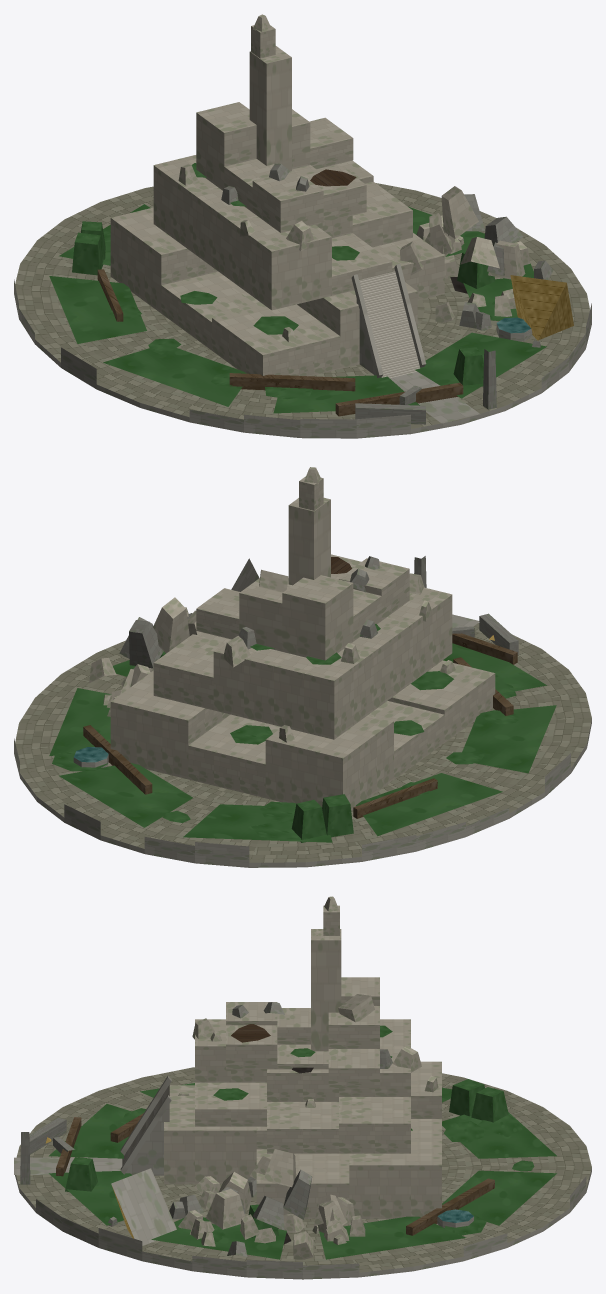
File: pyramid_large_destroyed_lod0.glb
The picture shows the model from 3 angles, top to bottom: view 1: azimuth 30°, elevation 25°; view 2: azimuth 150°, elevation 25°; view 3: azimuth 270°, elevation 25°; orthographic projection. The views are drawn at different scales.
Visible parts, largest first — view 1: pyramid_large_destroyed_lod0; view 2: pyramid_large_destroyed_lod0; view 3: pyramid_large_destroyed_lod0.
Boxes of the visible parts, x1,y1,x2,y2 form: pyramid_large_destroyed_lod0: (14,14,591,438); pyramid_large_destroyed_lod0: (14,467,591,867); pyramid_large_destroyed_lod0: (14,896,591,1279).
Size of the model in its own units: 1.68 by 0.9689 by 1.9.
Materials: 1 (1 with a texture image).
